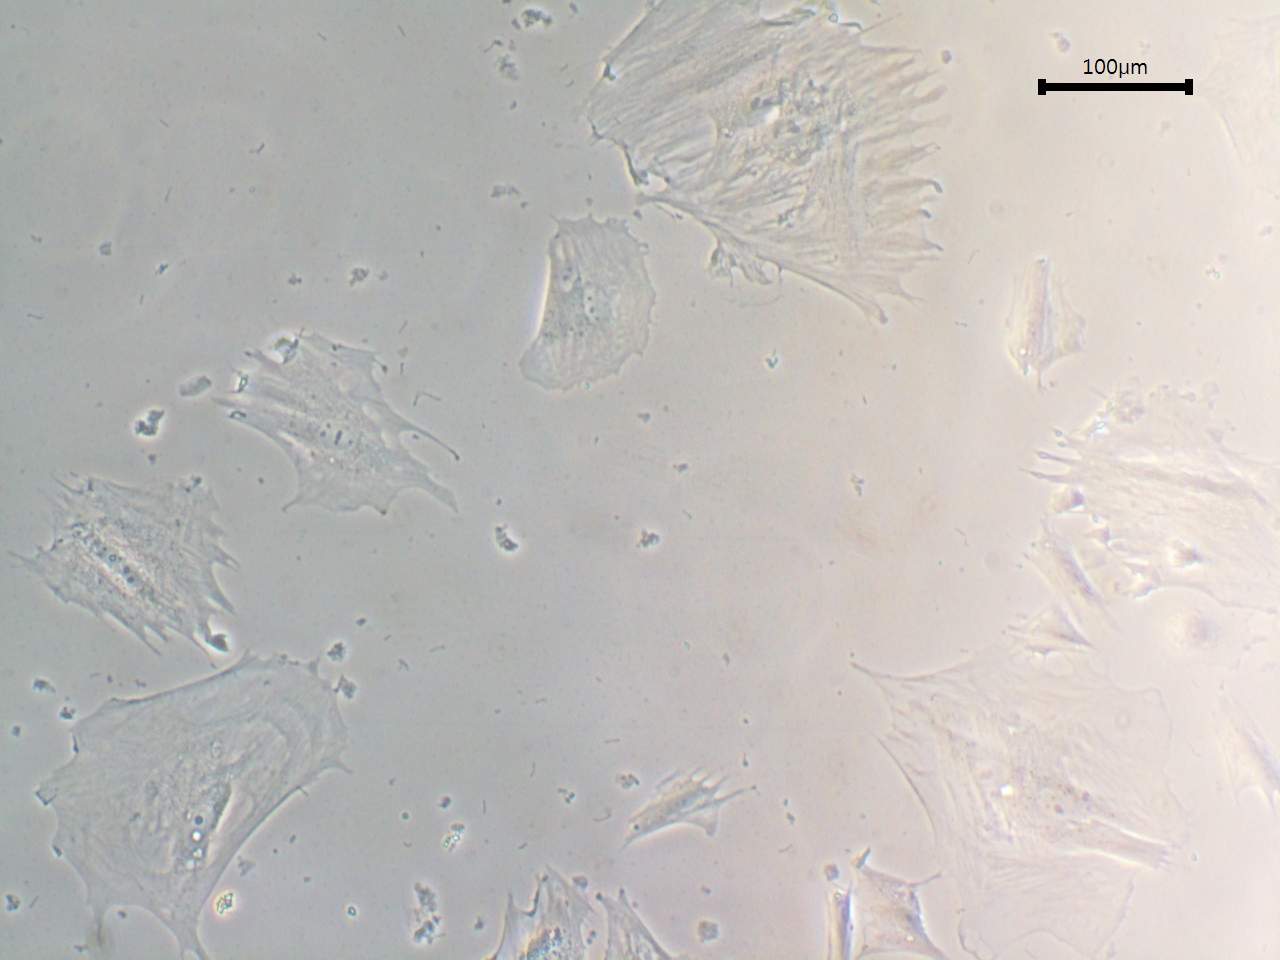dividing: (519, 204, 672, 404)
large-spread: (582, 1, 956, 327), (32, 651, 363, 945)
medium-polygonal: (994, 247, 1101, 391), (617, 760, 757, 851)
medium-spread: (226, 330, 474, 529), (26, 467, 243, 658)
